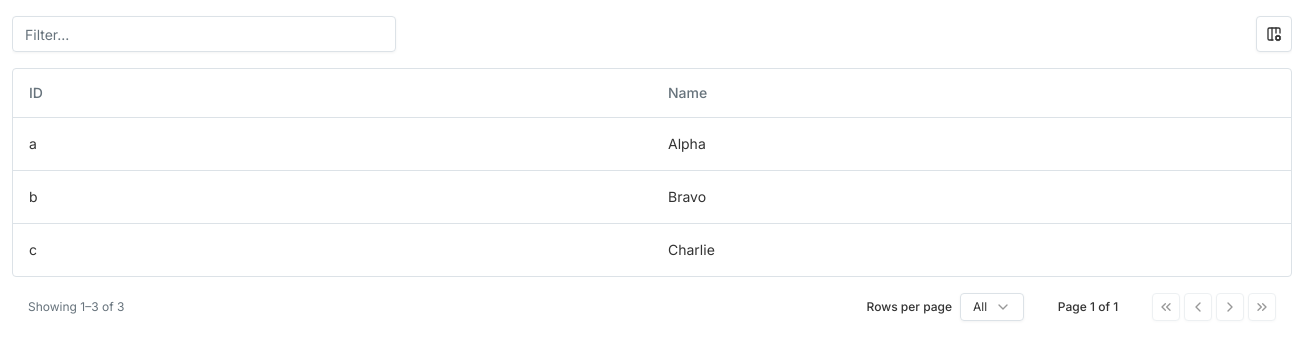
Test: DataTable — controlled filter projection › does not resurrect the previous query after the X clears past a settled debounce
In the field with placeholder "Filter...": (204, 34) top-left (13, 16), bottom-right (395, 52), type "alpha"
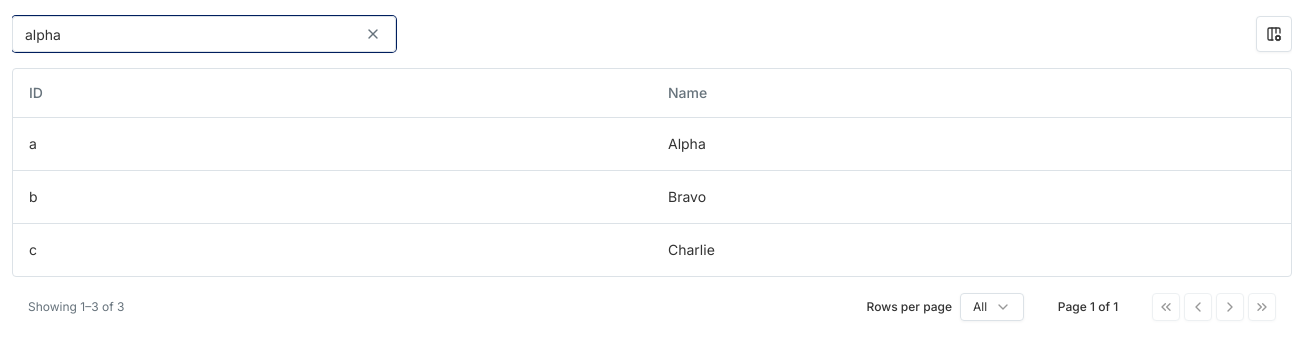
Click the button named "Clear search": (373, 34) top-left (357, 20), bottom-right (389, 48)
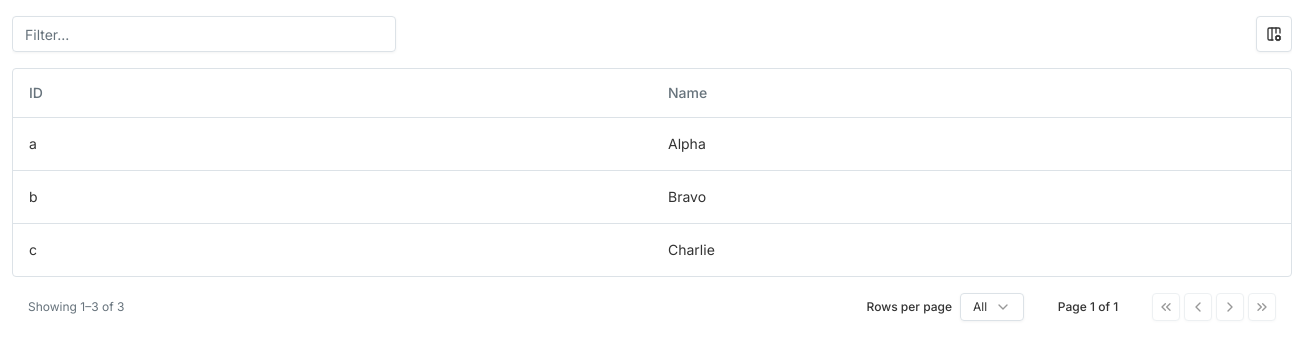
Expected: the field with placeholder "Filter..." is empty, top-left (13, 16), bottom-right (395, 52)
